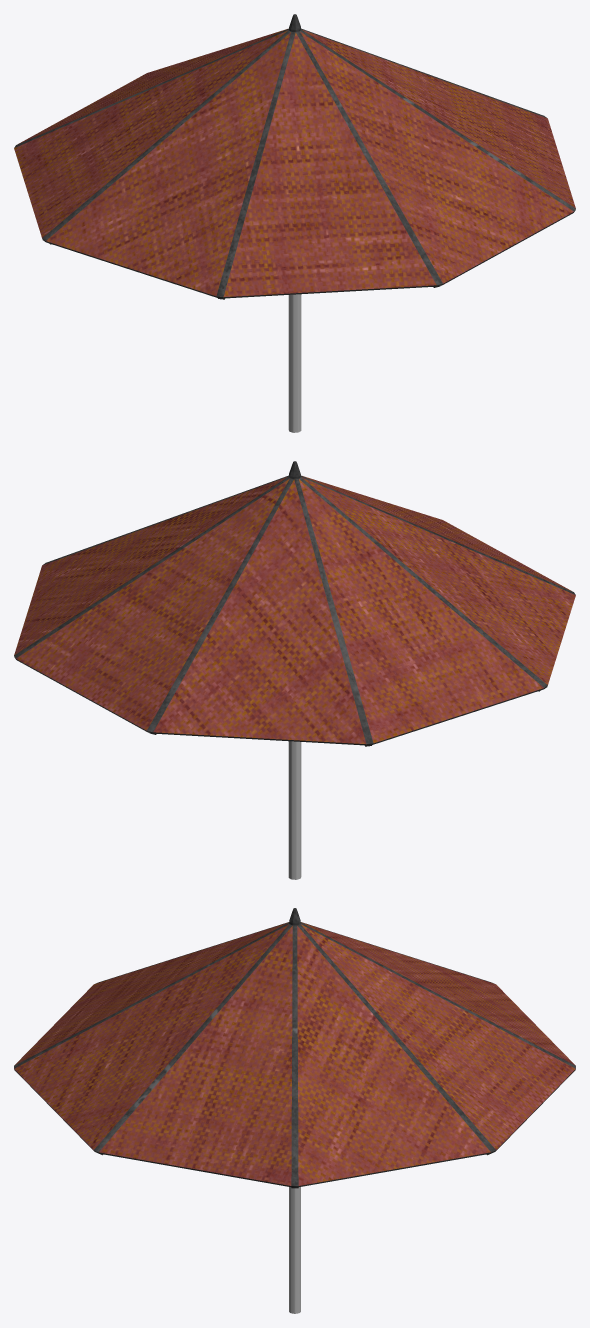
File: Tenda_002.fbx
The picture shows the model from 3 angles, top to bottom: view 1: azimuth 30°, elevation 25°; view 2: azimuth 150°, elevation 25°; view 3: azimuth 270°, elevation 25°; orthographic projection. The views are drawn at different scales.
Parts seen in each view (by area): view 1: Tenda.002; view 2: Tenda.002; view 3: Tenda.002.
Boxes of the visible parts, x1,y1,x2,y2 form: Tenda.002: [14, 14, 575, 432]; Tenda.002: [14, 461, 575, 879]; Tenda.002: [14, 908, 575, 1313].
Size of the model in its own units: 3567 by 2819 by 3567.
